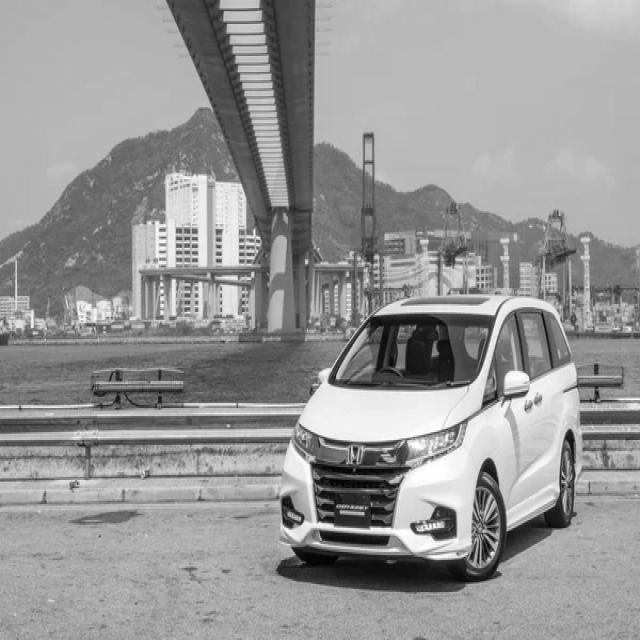Car: (281, 296, 584, 582)
